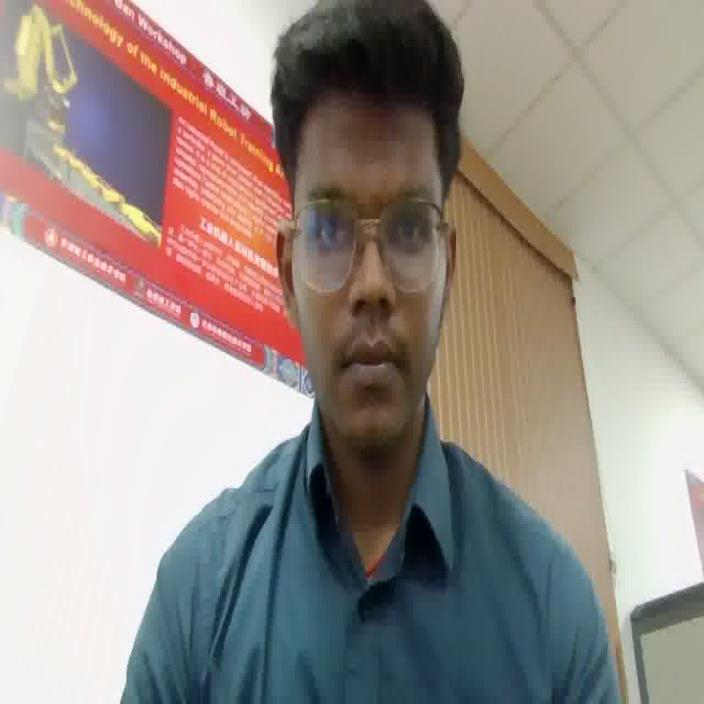know: (120, 0, 621, 703)
